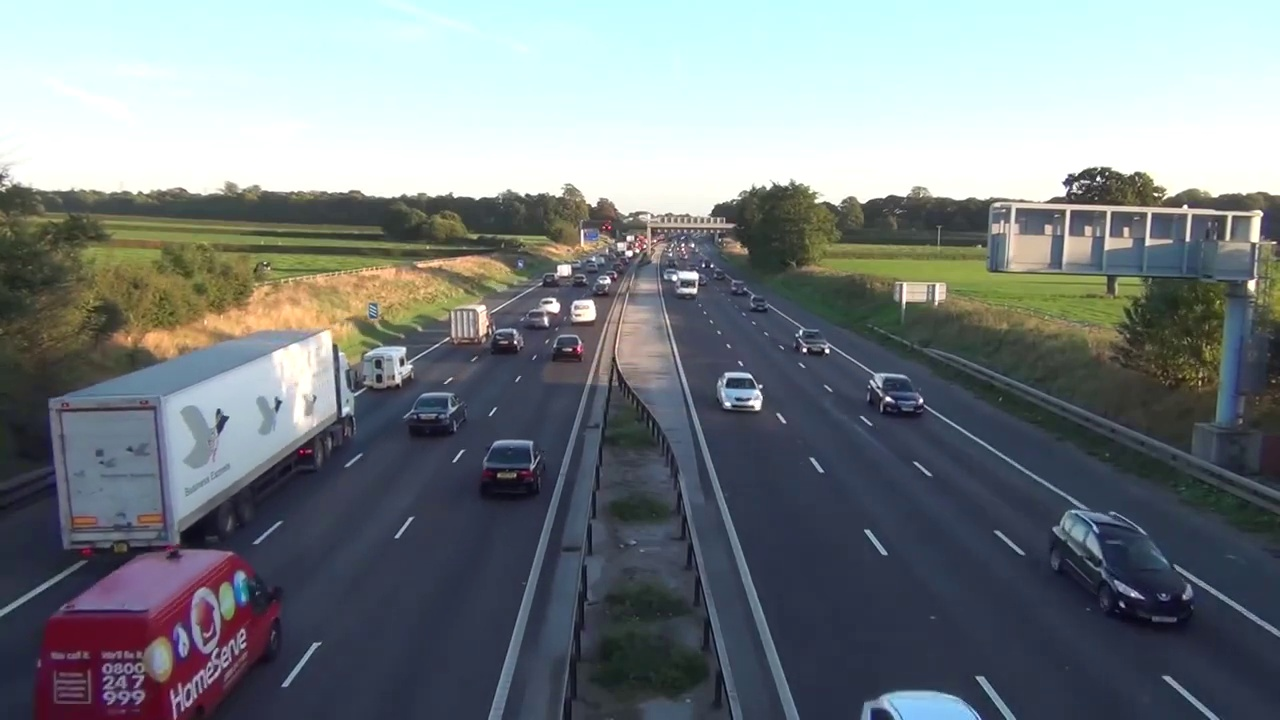bus: (1046, 510, 1196, 632), (480, 435, 542, 499), (859, 690, 984, 720), (865, 373, 925, 417), (405, 393, 466, 436), (716, 372, 764, 411), (551, 333, 586, 366), (793, 328, 831, 358), (492, 328, 526, 354), (570, 299, 600, 324), (526, 308, 556, 330), (746, 295, 771, 314)
car: (47, 331, 355, 552), (449, 307, 488, 347)
lorry: (360, 347, 422, 390)
minibus: (34, 551, 285, 720)
